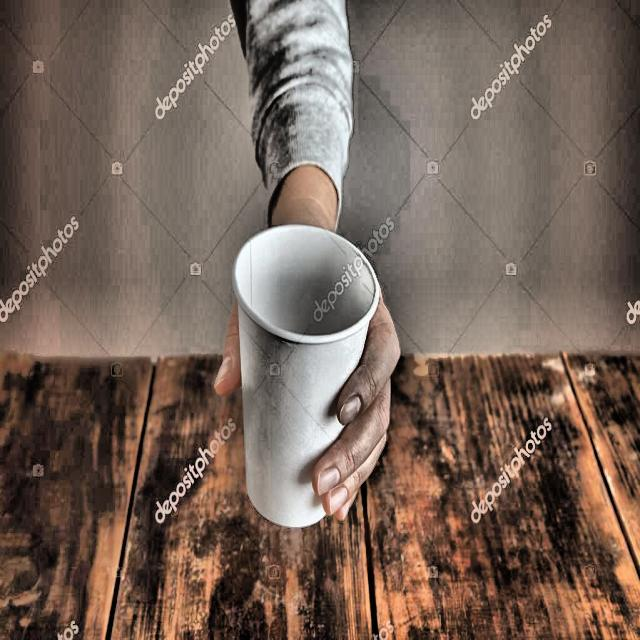Cup: (224, 217, 380, 537)
